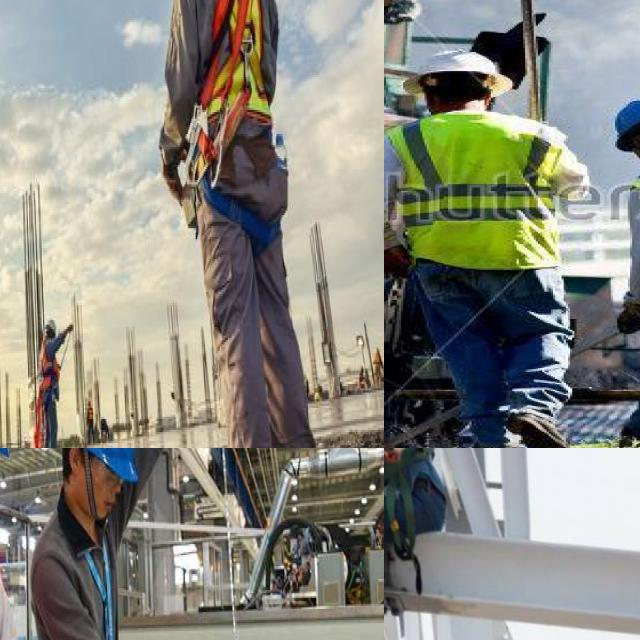No_Ear-Protection: (66, 448, 82, 478)
face_nomask: (80, 454, 126, 525)
hand_glove: (610, 290, 640, 337)
head_helmet: (406, 50, 514, 94), (66, 448, 140, 480), (610, 95, 640, 137)
person: (384, 49, 591, 444), (152, 0, 310, 448), (33, 448, 152, 640), (30, 309, 66, 448)
vest: (392, 115, 560, 262), (174, 0, 287, 162)
